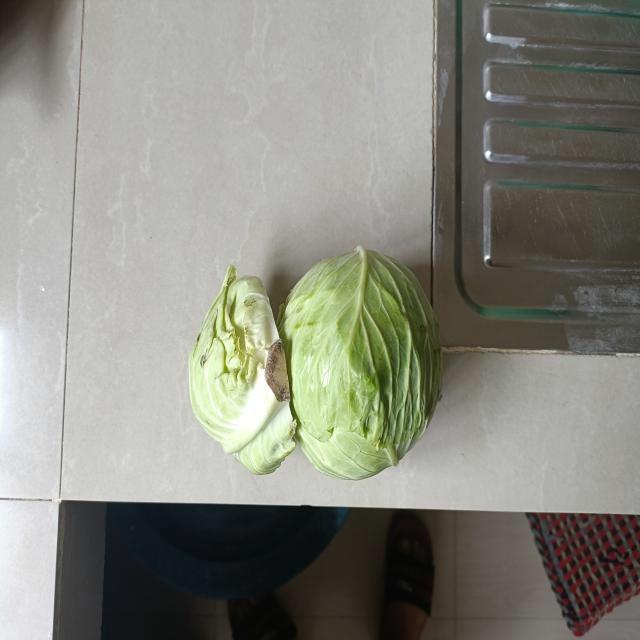cabbage: (281, 246, 443, 483), (191, 267, 293, 475)
